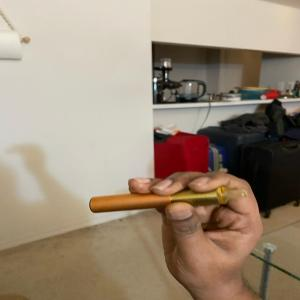Golden-E-Ciggirate: (85, 184, 249, 218)
